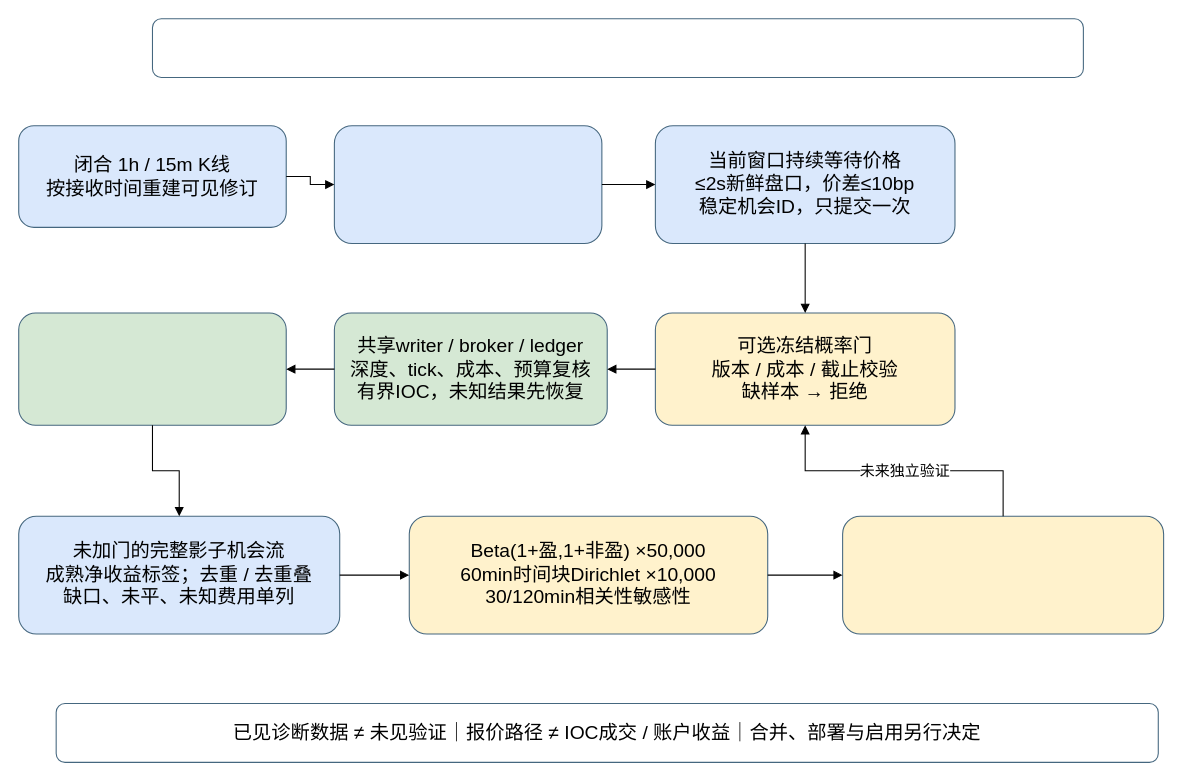
This 1182x781 diagram has some shape labels left out. The shapes that lost their labels are listed below. From the top down, each one's centre as x and y in pixels, then its label:
At point (617, 48): "A/B 场景交易与离线贝叶斯验证｜入口默认关闭".
At point (467, 184): "A 多头 / B 空头 EMA + MACD + 影线 不匹配 → 未分类".
At point (152, 368): "冻结三档ATR目标与止损 实时盘口退出 / 未决平仓 关闭新入口仍管理持仓".
At point (1003, 574): "离线生成下一期快照 至少20完整结果 / 10小时块 不将本段后验倒灌本段回放".
